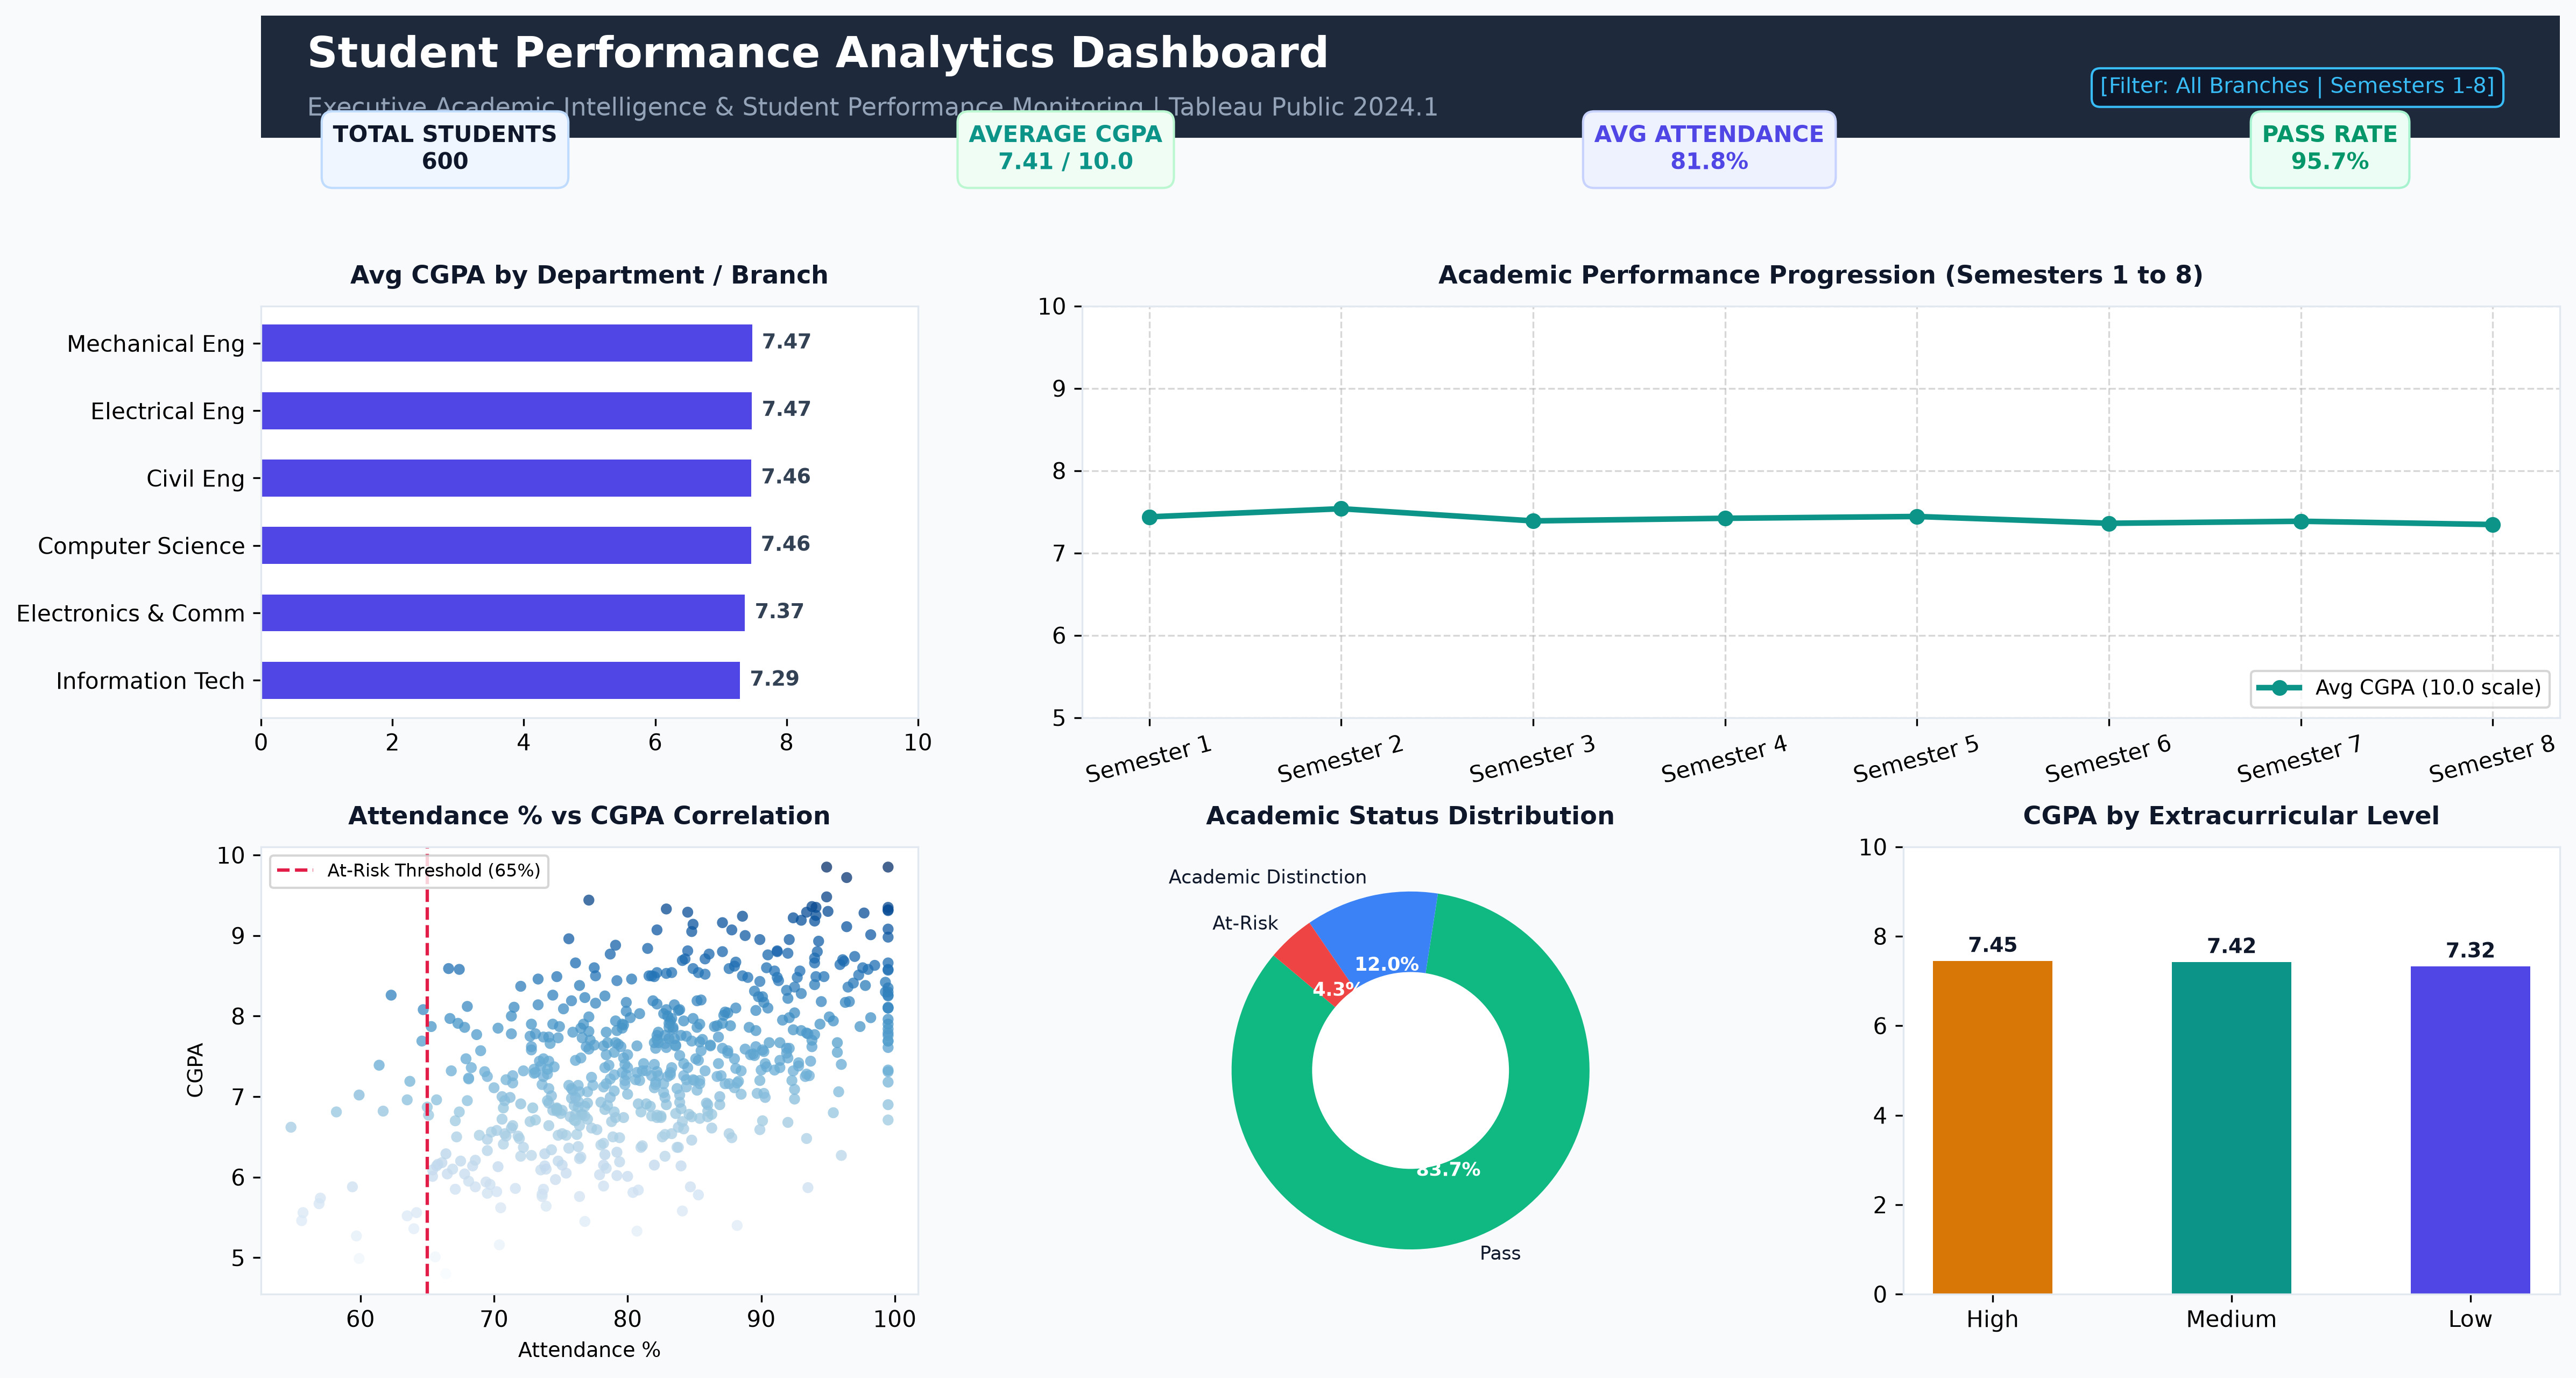

Layout of this report page (visuals, bound fields, positions):
{"tool":"tableau","page":{"name":"Student Performance Dashboard","canvas":[1920,1080],"ordinal":0},"visuals":[{"type":"worksheet","box":[0,0,1920,1080]},{"type":"worksheet","title":"Title","box":[0,0,1920,97.2]},{"type":"worksheet","box":[0,97.2,1920,172.8]},{"type":"worksheet","title":"KPI_Total_Students","box":[0,97.2,480,172.8]},{"type":"worksheet","title":"KPI_Avg_CGPA","box":[480,97.2,480,172.8]},{"type":"worksheet","title":"KPI_Avg_Attendance","box":[960,97.2,480,172.8]},{"type":"worksheet","title":"KPI_Pass_Rate","box":[1440,97.2,480,172.8]},{"type":"worksheet","box":[0,270,1920,399.6]},{"type":"worksheet","title":"Bar_Branch_CGPA","box":[0,270,960,399.6]},{"type":"worksheet","title":"Line_Semester_Trend","box":[960,270,960,399.6]},{"type":"worksheet","box":[0,669.6,1920,410.4]},{"type":"worksheet","title":"Scatter_Attendance_vs_CGPA","box":[0,669.6,640,410.4]},{"type":"worksheet","title":"Donut_Grade_Distribution","box":[640,669.6,640,410.4]},{"type":"worksheet","title":"Stacked_StudyHours_Performance","box":[1280,669.6,640,410.4]}]}

Visuals, with their boxes on the page's 1920x1080 design canvas (x1, y1, x2, y2). These are canvas units, not pixel positions in the 2576x1378 screenshot, which may show the page scaled, cropped or inside an application window:
worksheet: x1=0 y1=0 x2=1920 y2=1080
"Title" worksheet: x1=0 y1=0 x2=1920 y2=97
worksheet: x1=0 y1=97 x2=1920 y2=270
"KPI_Total_Students" worksheet: x1=0 y1=97 x2=480 y2=270
"KPI_Avg_CGPA" worksheet: x1=480 y1=97 x2=960 y2=270
"KPI_Avg_Attendance" worksheet: x1=960 y1=97 x2=1440 y2=270
"KPI_Pass_Rate" worksheet: x1=1440 y1=97 x2=1920 y2=270
worksheet: x1=0 y1=270 x2=1920 y2=670
"Bar_Branch_CGPA" worksheet: x1=0 y1=270 x2=960 y2=670
"Line_Semester_Trend" worksheet: x1=960 y1=270 x2=1920 y2=670
worksheet: x1=0 y1=670 x2=1920 y2=1080
"Scatter_Attendance_vs_CGPA" worksheet: x1=0 y1=670 x2=640 y2=1080
"Donut_Grade_Distribution" worksheet: x1=640 y1=670 x2=1280 y2=1080
"Stacked_StudyHours_Performance" worksheet: x1=1280 y1=670 x2=1920 y2=1080
